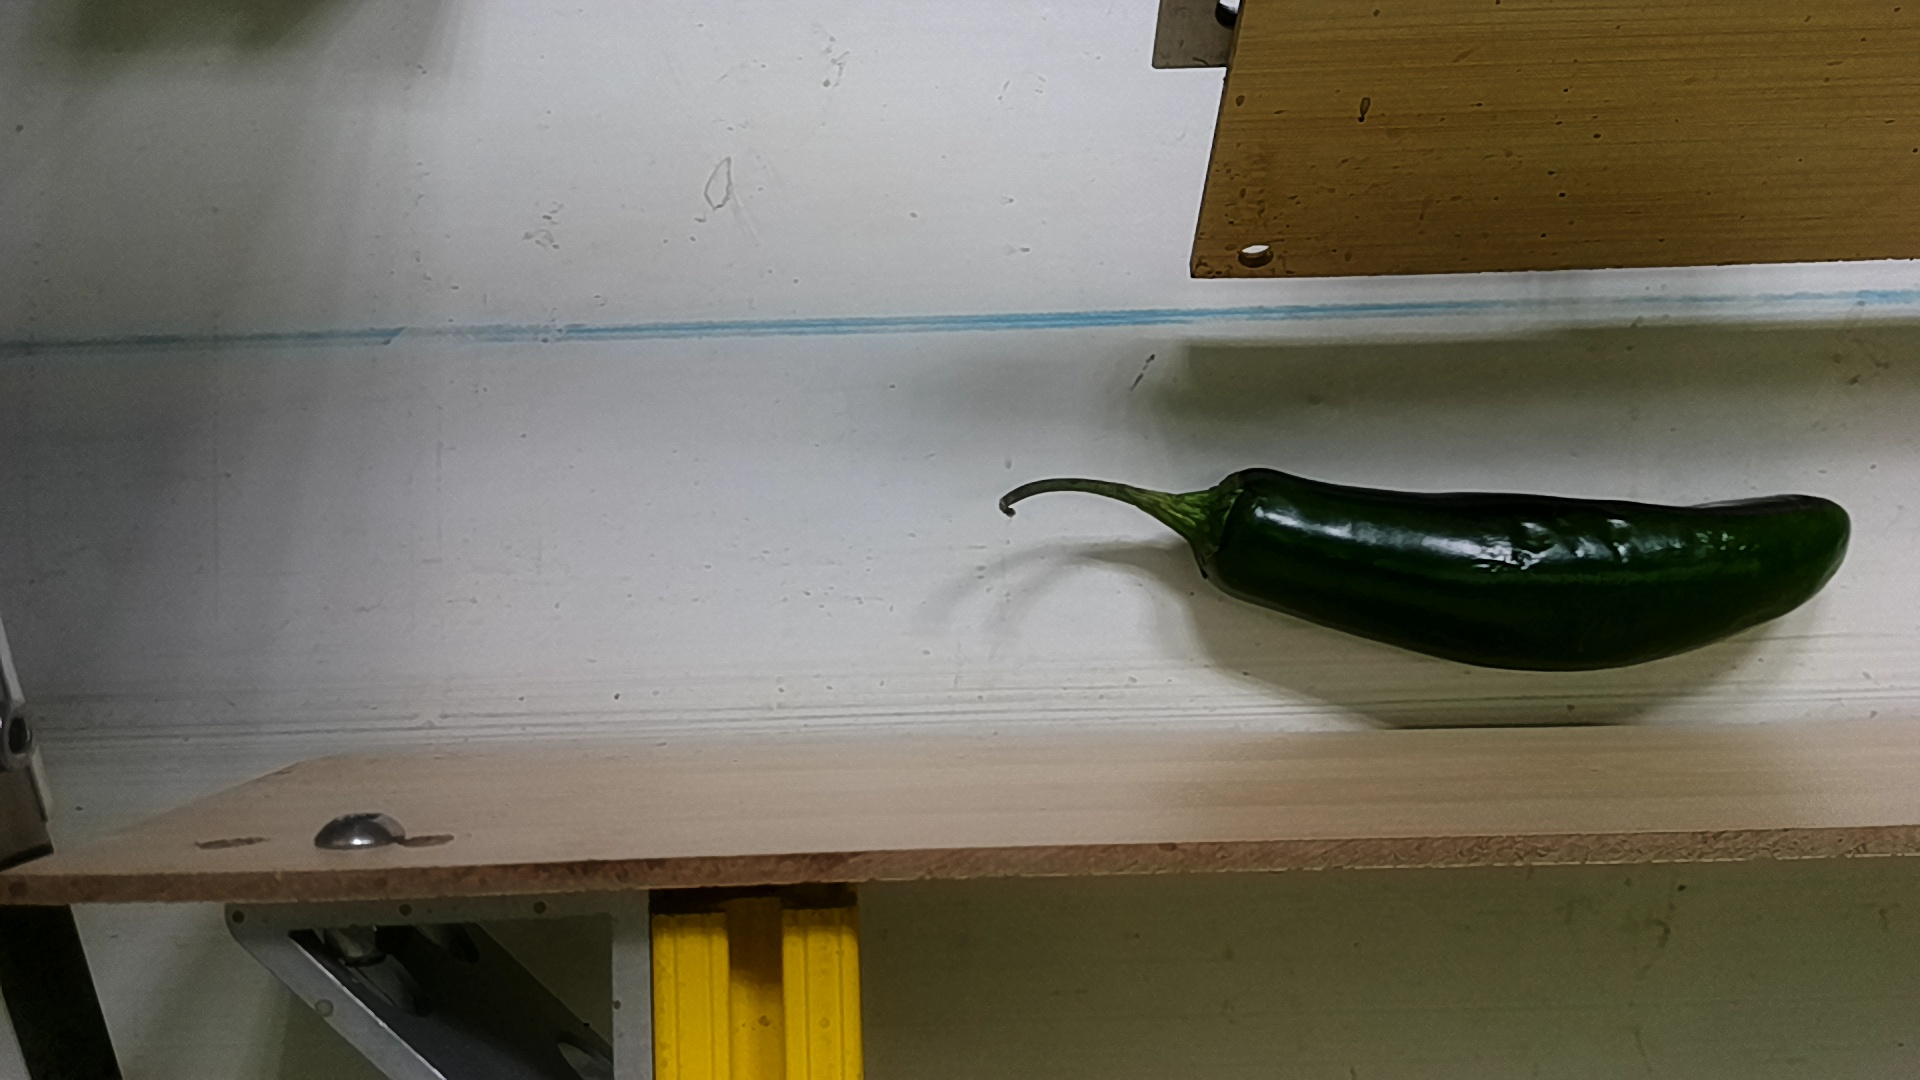Cut Point: (1183, 451, 1288, 612)
